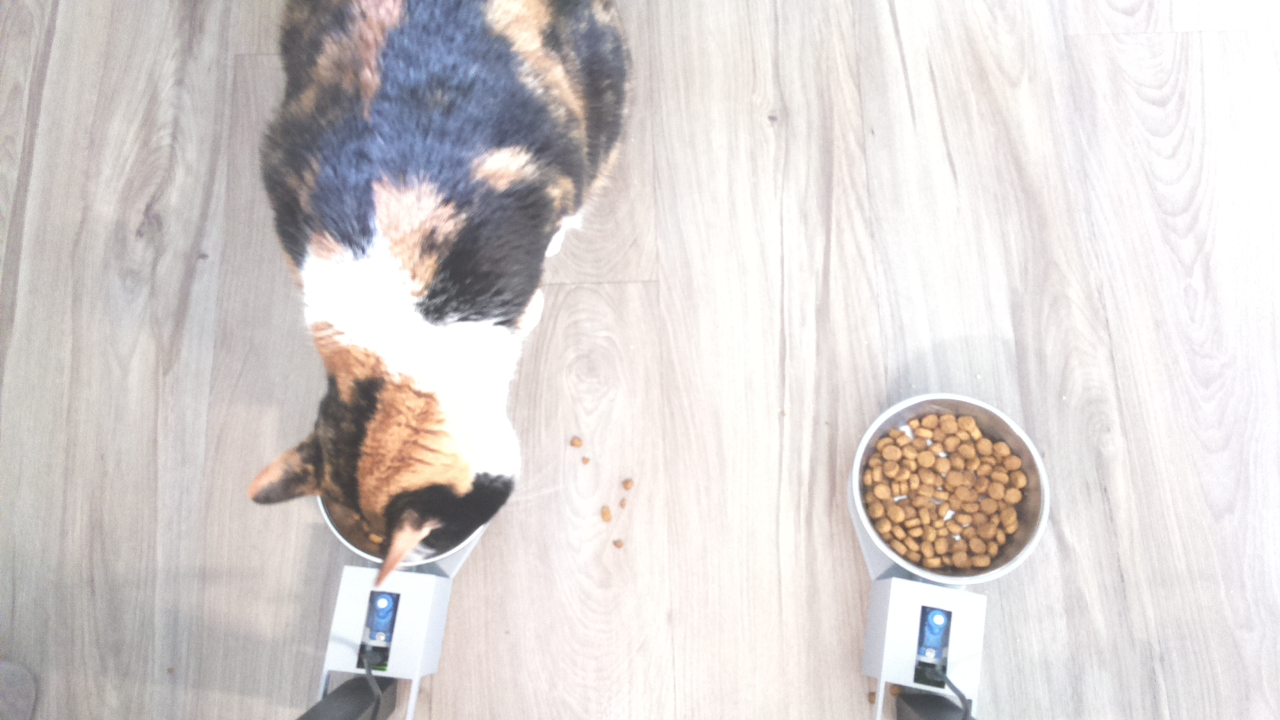bella_eating: (265, 244, 537, 583)
open_bowl: (849, 391, 1054, 586)
